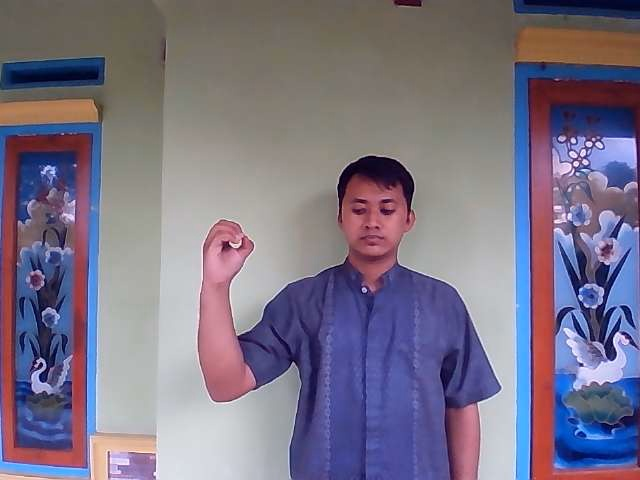O: (200, 218, 256, 286)
